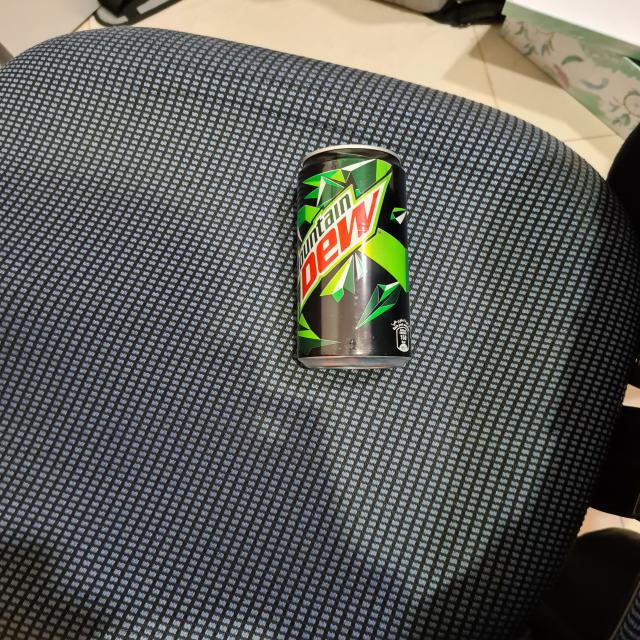non-organic waste: (286, 142, 413, 370)
